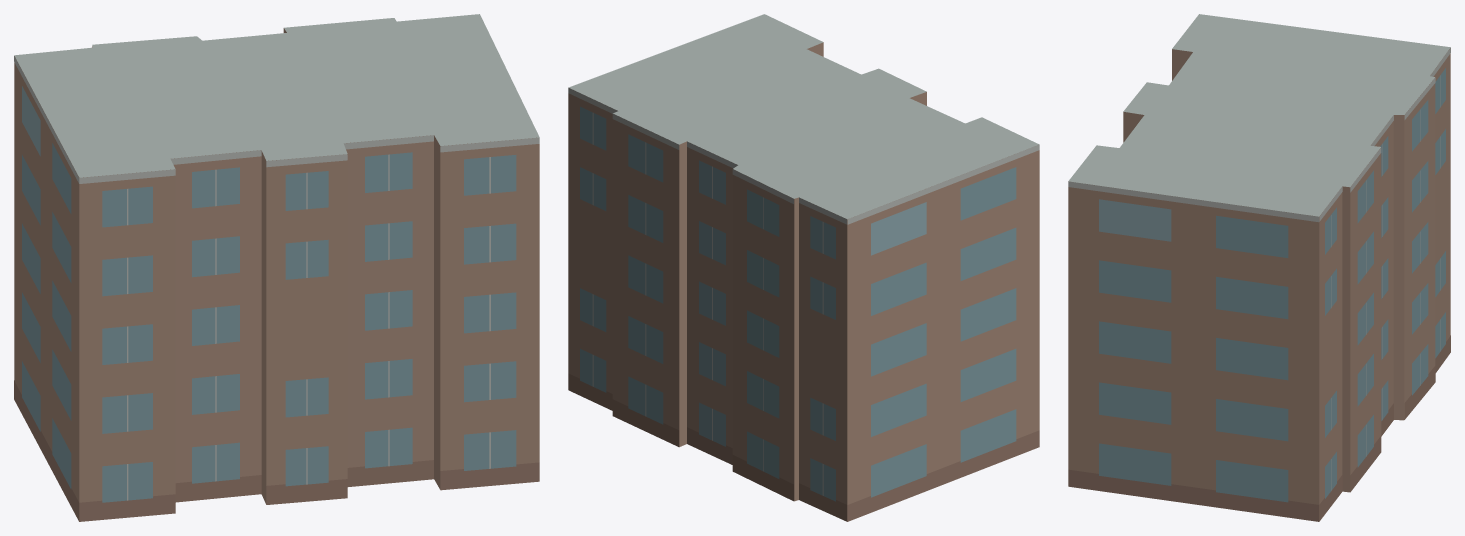
Rendered from survey-upis-32876702.glb.
3 renders of one model, left to right at view 1: azimuth 30°, elevation 25°; view 2: azimuth 150°, elevation 25°; view 3: azimuth 270°, elevation 25°, orthographic. The views are drawn at different scales.
Parts seen in each view (by area): view 1: survey-upis-32876702.tmp; view 2: survey-upis-32876702.tmp; view 3: survey-upis-32876702.tmp.
Boxes of the visible parts, x1,y1,x2,y2 form: survey-upis-32876702.tmp: (14, 14, 539, 521); survey-upis-32876702.tmp: (568, 14, 1039, 521); survey-upis-32876702.tmp: (1068, 14, 1450, 521).
Bounding box in the file's own units: 18.88 × 13.25 × 15.06.
